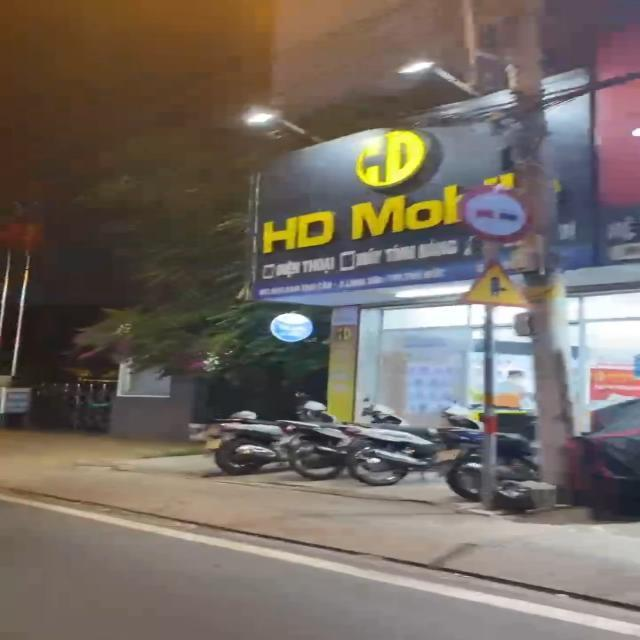125-cam-vuot: (457, 185, 533, 241)
207-giao-nhau-voi-duong-khong-uu-tien: (456, 254, 538, 311)
